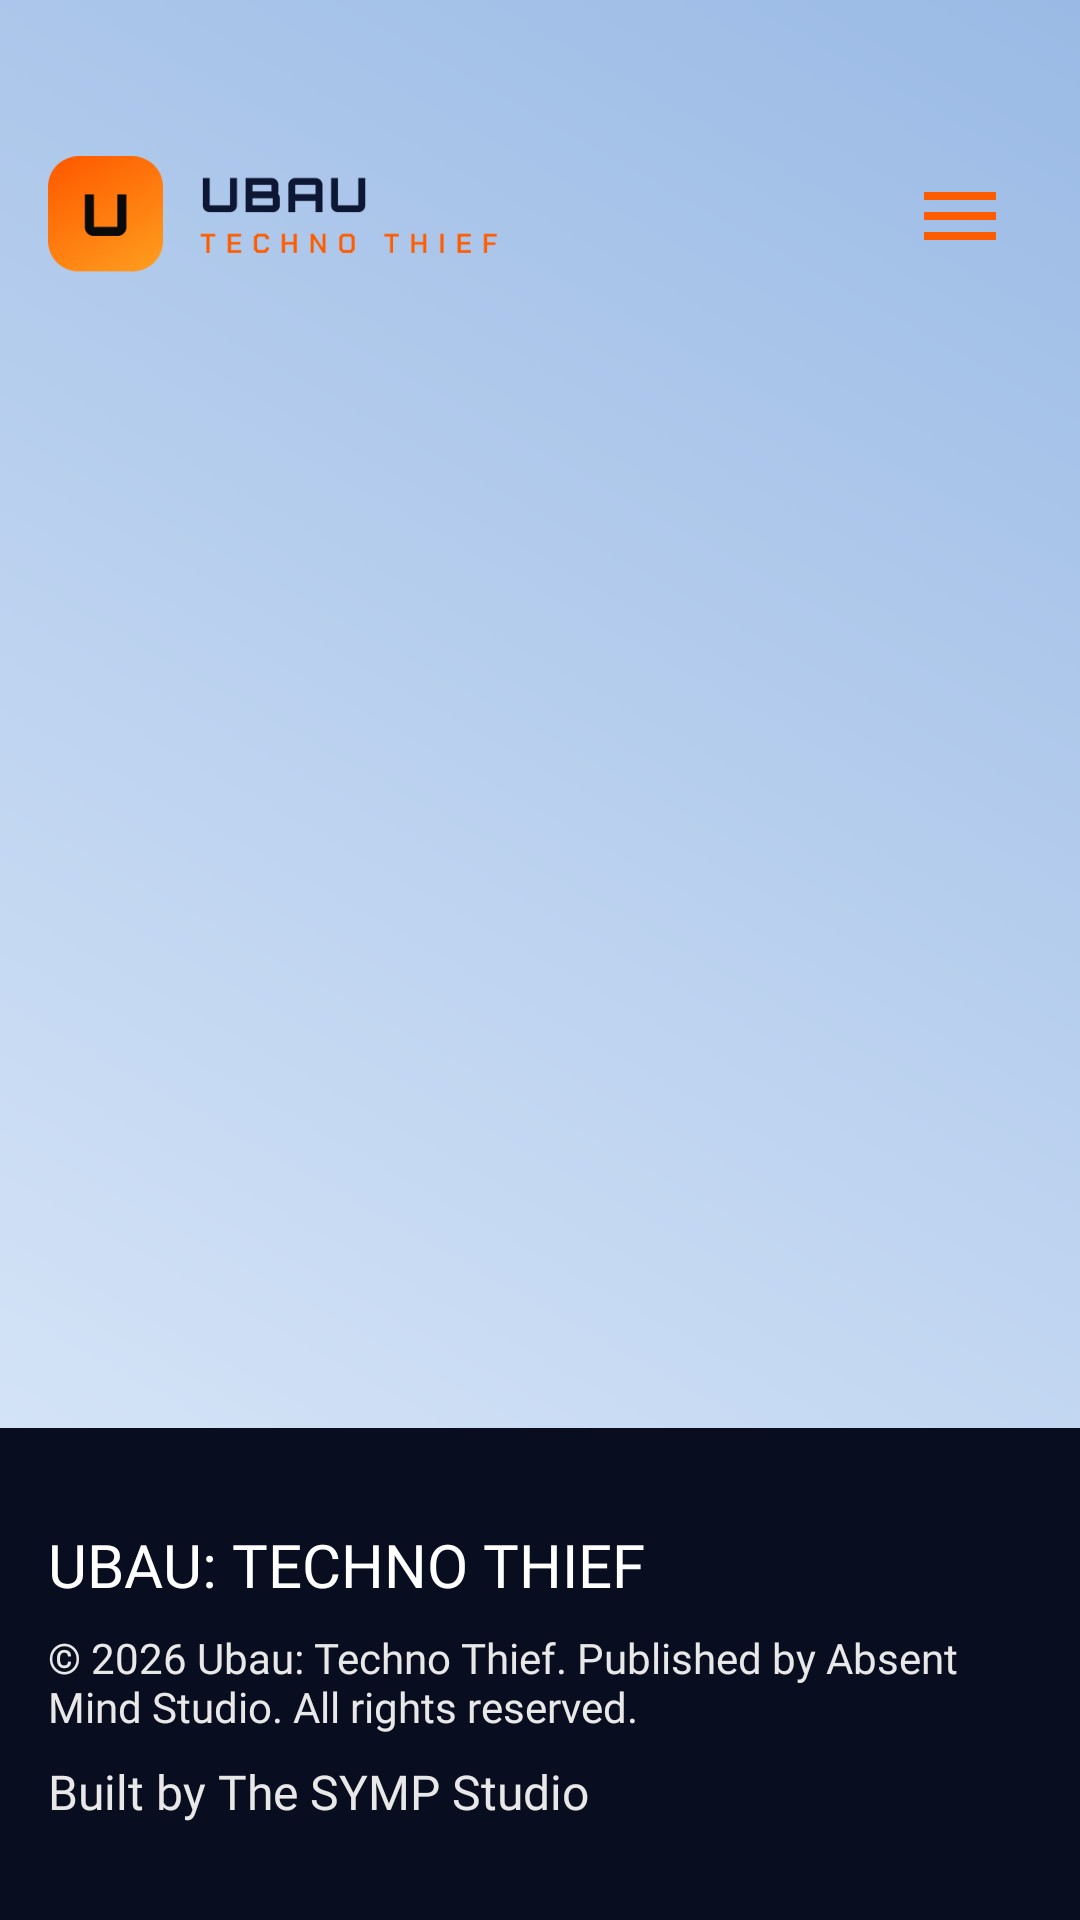

Locate icon controls on the screen. Image size 1080×1920, boxes as (x1, y1, x2, y2).
Menu: (924, 192, 996, 240)
